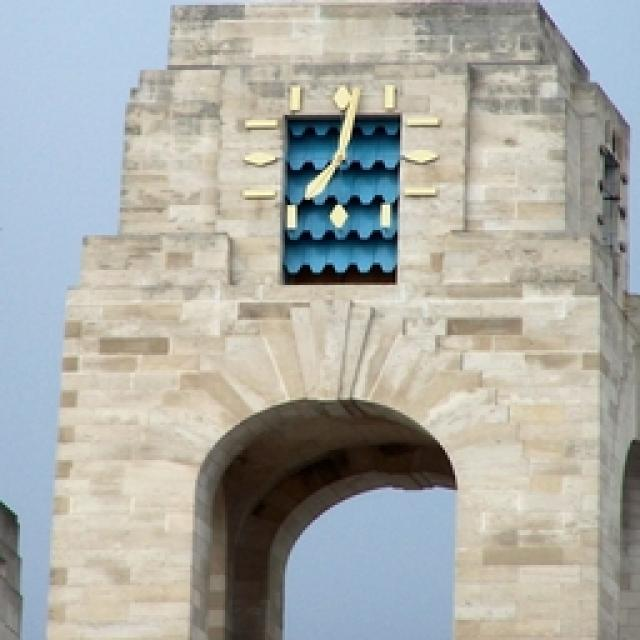Abbey: (85, 20, 640, 640)
